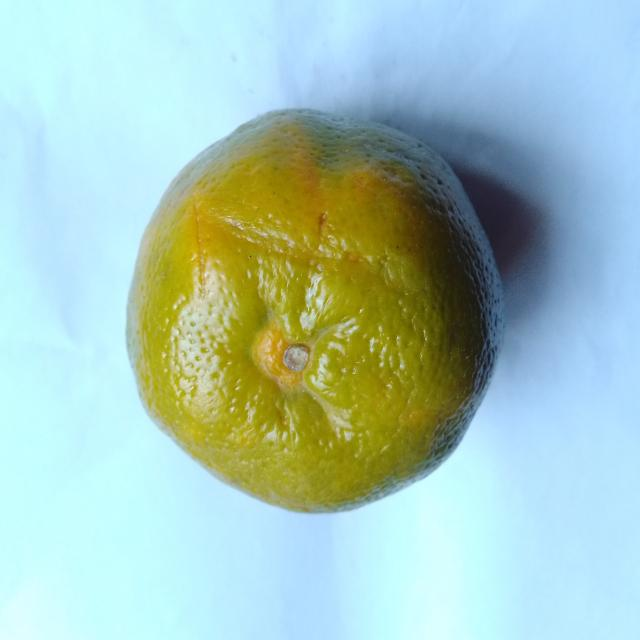orange: (127, 110, 502, 511)
